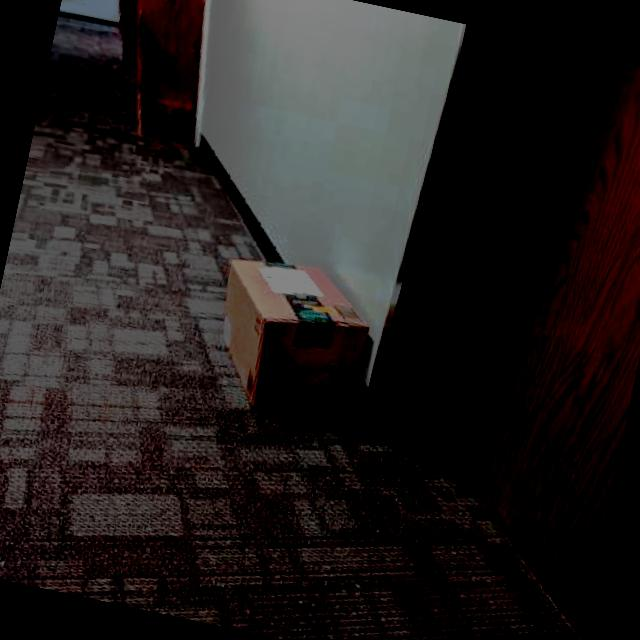Box: (186, 240, 388, 432)
